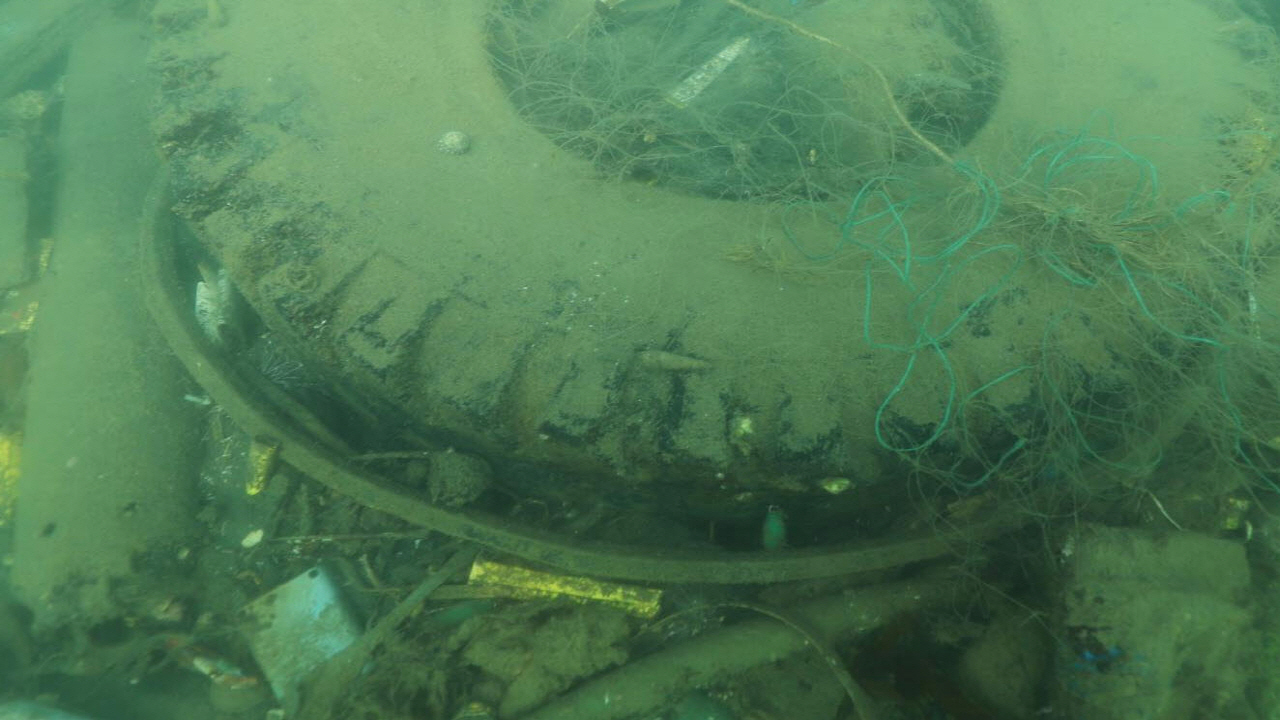eel fish trap: (13, 13, 198, 663)
tire: (156, 0, 1280, 519)
